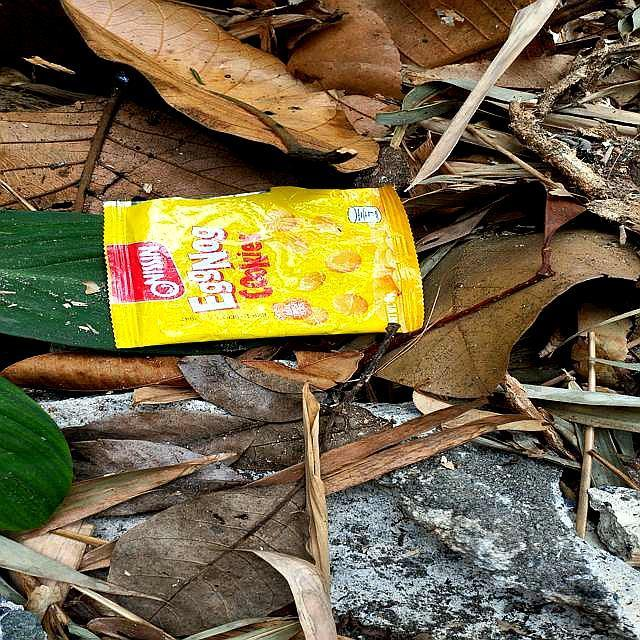Non-biodegradable: (102, 183, 426, 348)
